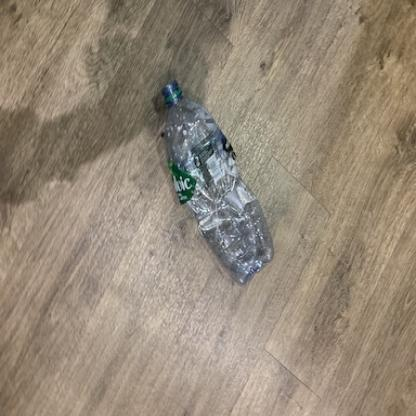trash: (155, 79, 278, 287)
